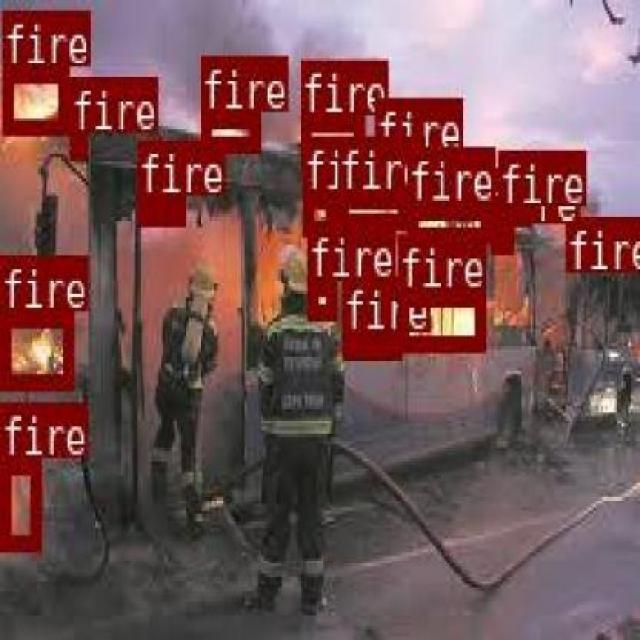fire: (399, 286, 484, 348), (0, 311, 72, 383), (0, 66, 66, 132), (0, 456, 40, 547), (406, 201, 488, 242), (300, 115, 363, 166), (337, 191, 406, 225), (200, 109, 257, 149), (301, 190, 334, 235), (340, 329, 398, 354), (565, 217, 607, 251), (136, 193, 184, 222), (306, 278, 334, 317), (372, 153, 395, 186), (497, 204, 530, 223), (492, 223, 510, 249), (69, 131, 86, 157)
